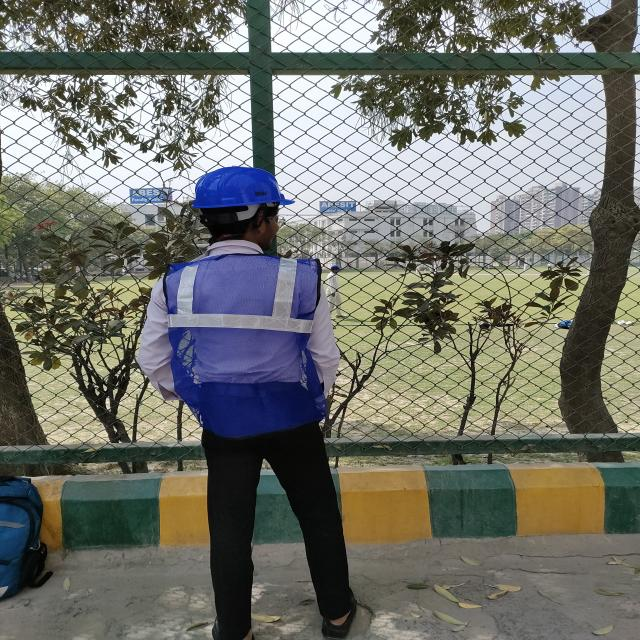safe: (149, 166, 333, 640)
